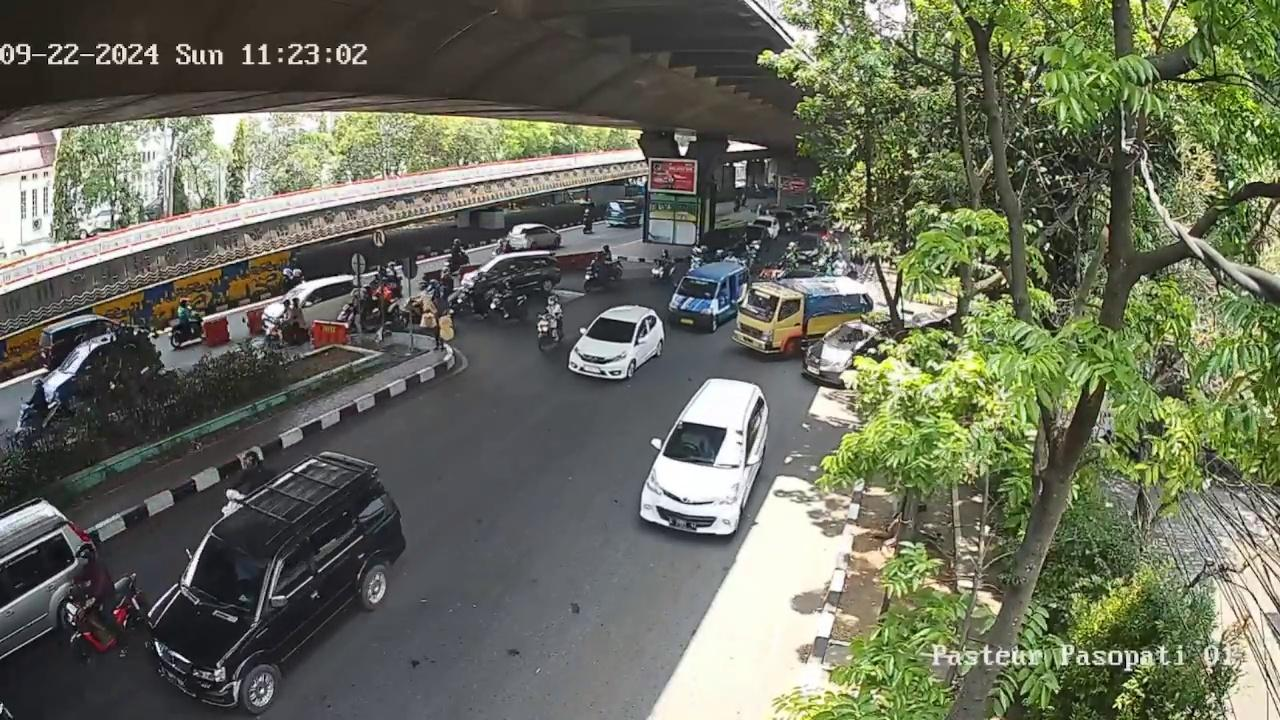tidak-pakai: (231, 551, 262, 588), (677, 426, 710, 452)
windshield: (177, 537, 275, 613), (665, 415, 749, 465), (582, 313, 641, 343), (675, 273, 715, 301)
